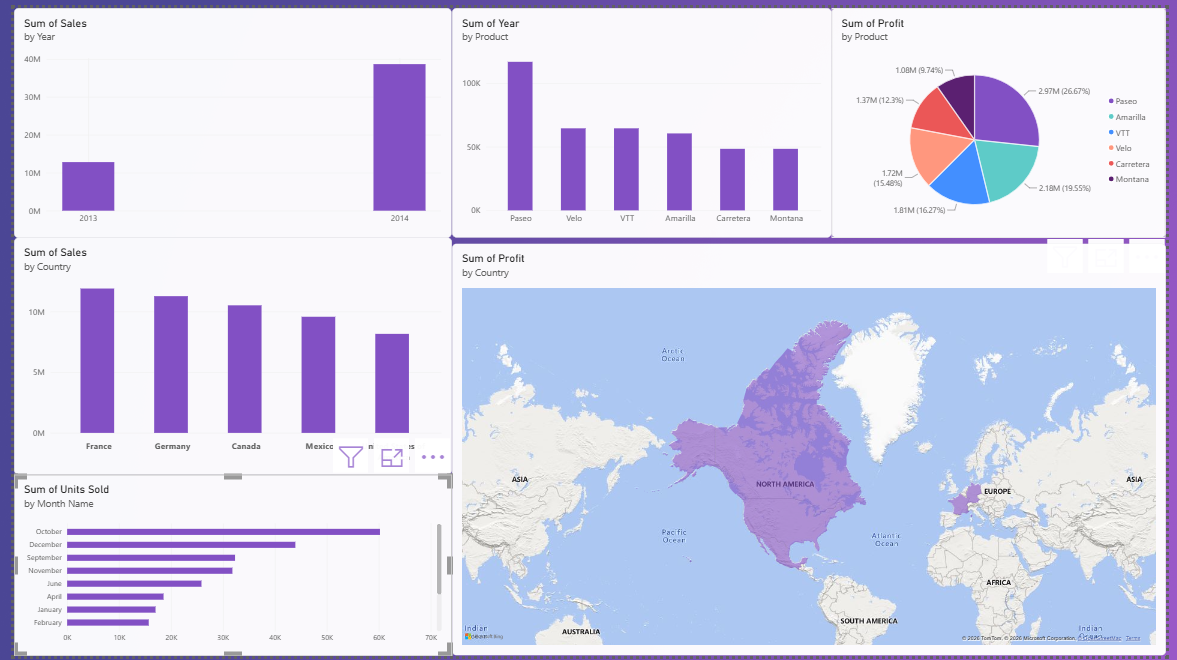

The dashboard page shown, as its layout file describes it:
{"tool":"powerbi","page":{"name":"Page 1","canvas":[1920,1080],"ordinal":0},"visuals":[{"type":"clusteredColumnChart","fields":{"Category":["Table2.Country"],"Y":["Sum(Table2. Sales)"]},"box":[0,382.5,730,395],"z":2},{"type":"barChart","fields":{"Category":["Table2.Month Name"],"Y":["Sum(Table2.Units Sold)"]},"box":[0,777.5,730,302.5],"z":3},{"type":"clusteredColumnChart","fields":{"Category":["Table2.Product"],"Y":["Sum(Table2.Year)"]},"box":[731.1,0,631.5,393.5],"z":4},{"type":"pieChart","fields":{"Category":["Table2.Product"],"Y":["Sum(Table2.Profit)"]},"box":[1362.6,0,558.6,393.5],"z":5},{"type":"filledMap","fields":{"Category":["Table2.Country"]},"box":[730,393.3,1190,686.7],"z":6},{"type":"clusteredColumnChart","fields":{"Category":["Table2.Date.Variation.Date Hierarchy.Year"],"Y":["Sum(Table2. Sales)"]},"box":[0,0,729,383],"z":7}]}

Visuals, with their boxes in screenshot pixels (x1, y1, x2, y2), scaled from the page's 1920x1080 canvas onto the 1177x660 screenshot:
clusteredColumnChart - Table2.Country x Sum(Table2. Sales): {"left": 0, "top": 234, "right": 448, "bottom": 475}
barChart - Table2.Month Name x Sum(Table2.Units Sold): {"left": 0, "top": 475, "right": 448, "bottom": 659}
clusteredColumnChart - Table2.Product x Sum(Table2.Year): {"left": 448, "top": 0, "right": 835, "bottom": 240}
pieChart - Table2.Product x Sum(Table2.Profit): {"left": 835, "top": 0, "right": 1176, "bottom": 240}
filledMap - Table2.Country: {"left": 448, "top": 240, "right": 1176, "bottom": 659}
clusteredColumnChart - Table2.Date.Variation.Date Hierarchy.Year x Sum(Table2. Sales): {"left": 0, "top": 0, "right": 447, "bottom": 234}
